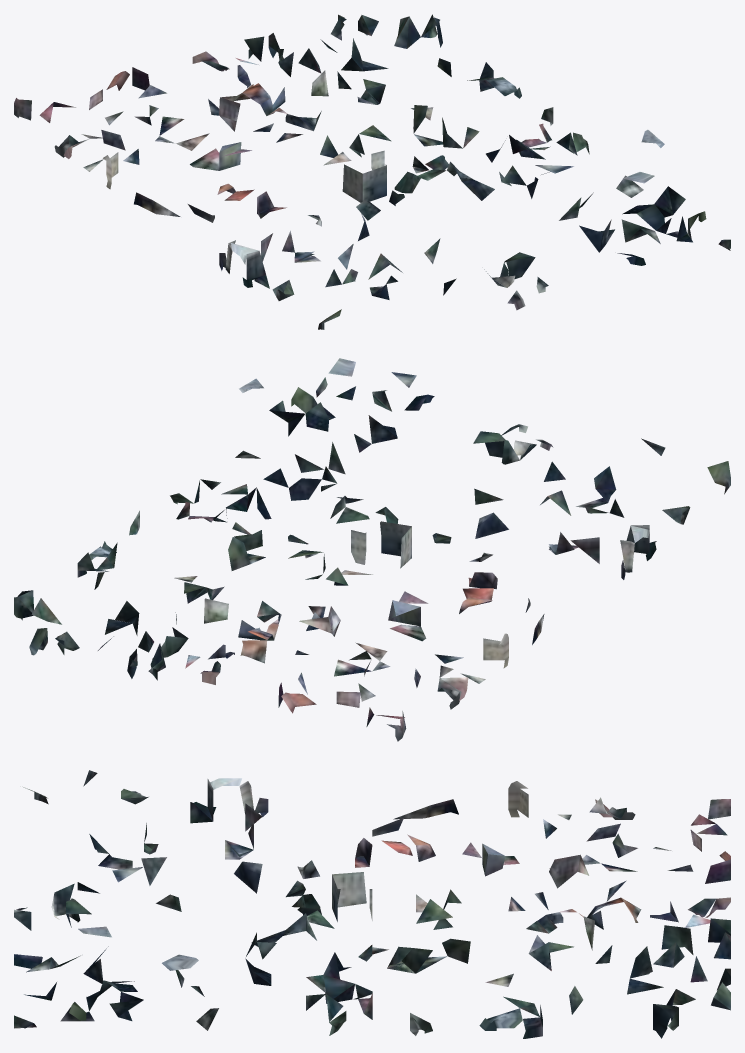
3 renders of one model, top to bottom at view 1: azimuth 30°, elevation 25°; view 2: azimuth 150°, elevation 25°; view 3: azimuth 270°, elevation 25°, orthographic. The views are drawn at different scales.
Parts seen in each view (by area): view 1: 30436272704361704_1; view 2: 30436272704361704_1; view 3: 30436272704361704_1.
Part boxes in pixels (x1,y1,x2,y2): 30436272704361704_1: [14, 14, 730, 329]; 30436272704361704_1: [14, 358, 730, 741]; 30436272704361704_1: [14, 770, 730, 1038].
Bounding box in the file's own units: 218 × 45.58 × 306.
1 material, 1 textured.
